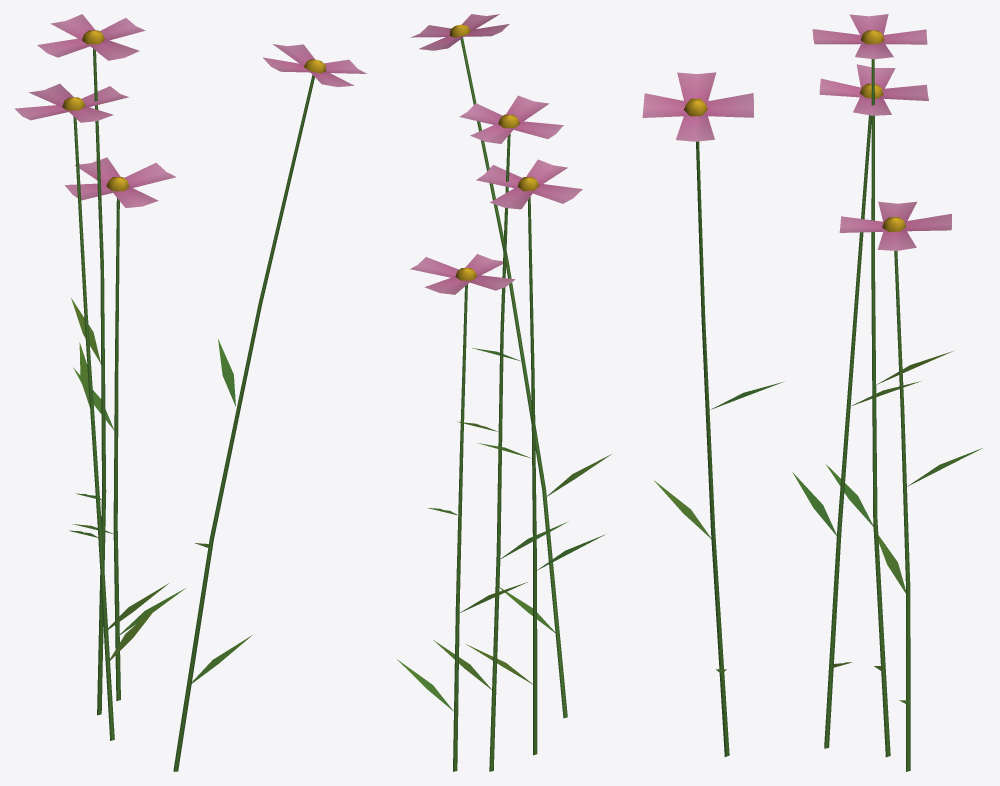
Rendered from flower-cosmos-b.lod1.glb.
3 renders of one model, left to right at view 1: azimuth 30°, elevation 25°; view 2: azimuth 150°, elevation 25°; view 3: azimuth 270°, elevation 25°, orthographic. The views are drawn at different scales.
Visible parts, largest first — view 1: flower-cosmos-b.lod1; view 2: flower-cosmos-b.lod1; view 3: flower-cosmos-b.lod1.
Part boxes in pixels (x1,y1,x2,y2): flower-cosmos-b.lod1: (15, 14, 366, 771); flower-cosmos-b.lod1: (397, 14, 611, 771); flower-cosmos-b.lod1: (642, 14, 982, 771).
Bounding box in the file's own units: 0.2591 × 0.69 × 0.2956.
